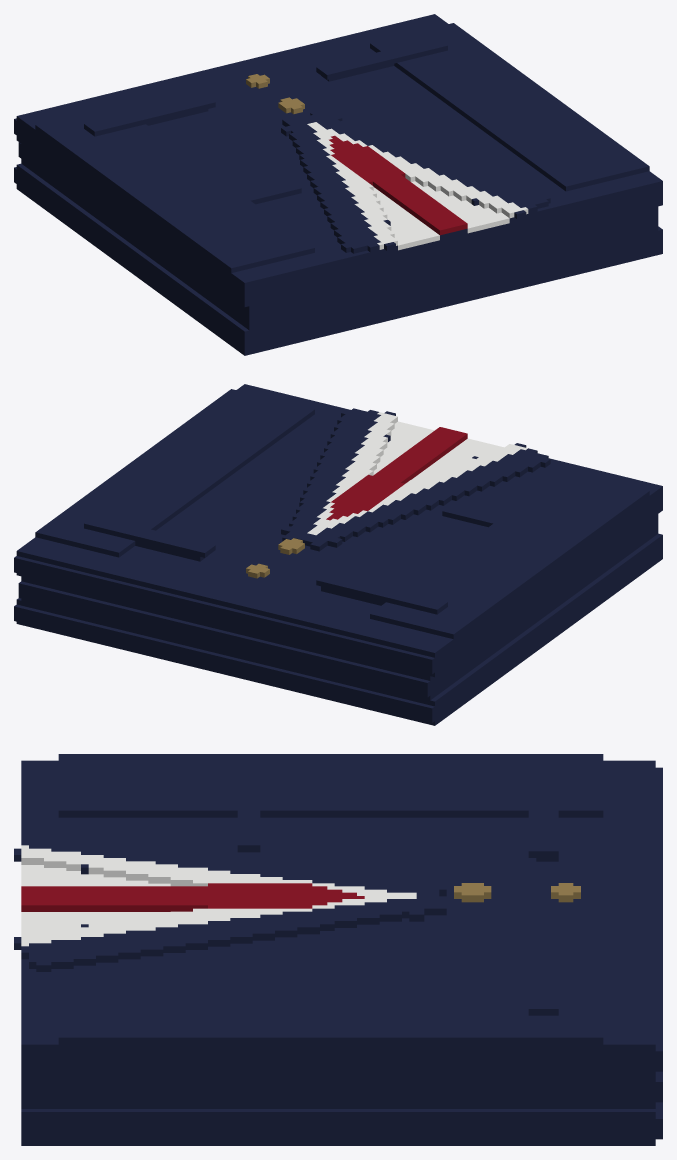
The model's file is blazer.glb.
The picture shows the model from 3 angles, top to bottom: view 1: azimuth 30°, elevation 25°; view 2: azimuth 150°, elevation 25°; view 3: azimuth 270°, elevation 25°; orthographic projection. The views are drawn at different scales.
Visible parts, largest first — view 1: blazer:compound; view 2: blazer:compound; view 3: blazer:compound.
Boxes of the visible parts, box(x1,y1,x2,y2) form: blazer:compound: box(14, 14, 662, 355); blazer:compound: box(14, 384, 662, 725); blazer:compound: box(14, 754, 662, 1145).
Size of the model in its own units: 0.36 by 0.068 by 0.348.
